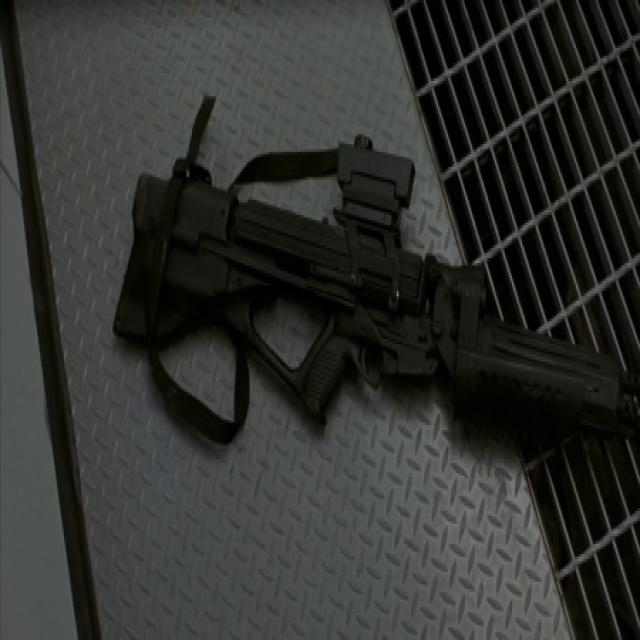rifle: (113, 124, 640, 459)
